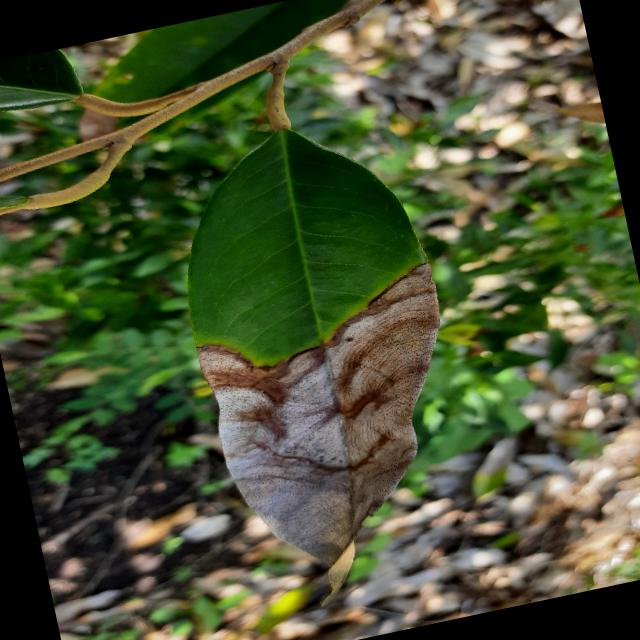Leaf Blight: (144, 85, 506, 629)
